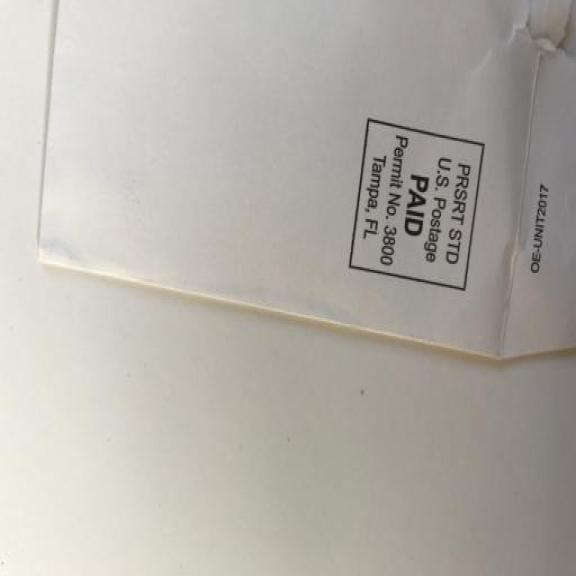Kertas: (30, 2, 576, 374)
